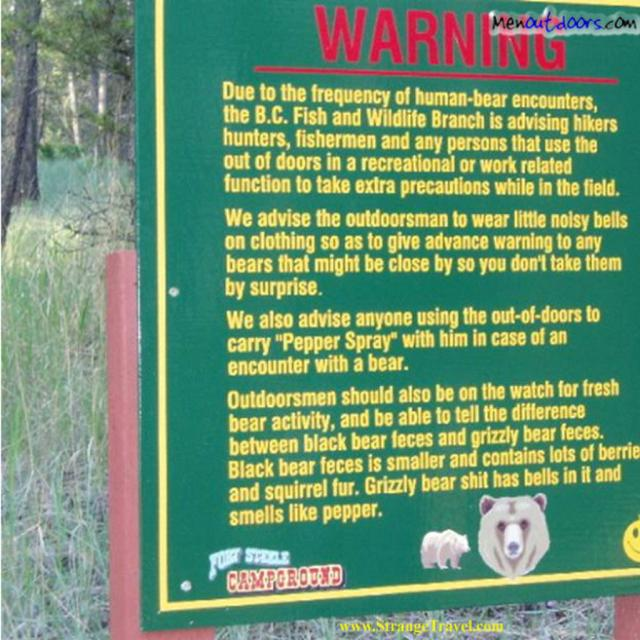Bear: (477, 491, 551, 580), (419, 528, 469, 570)
